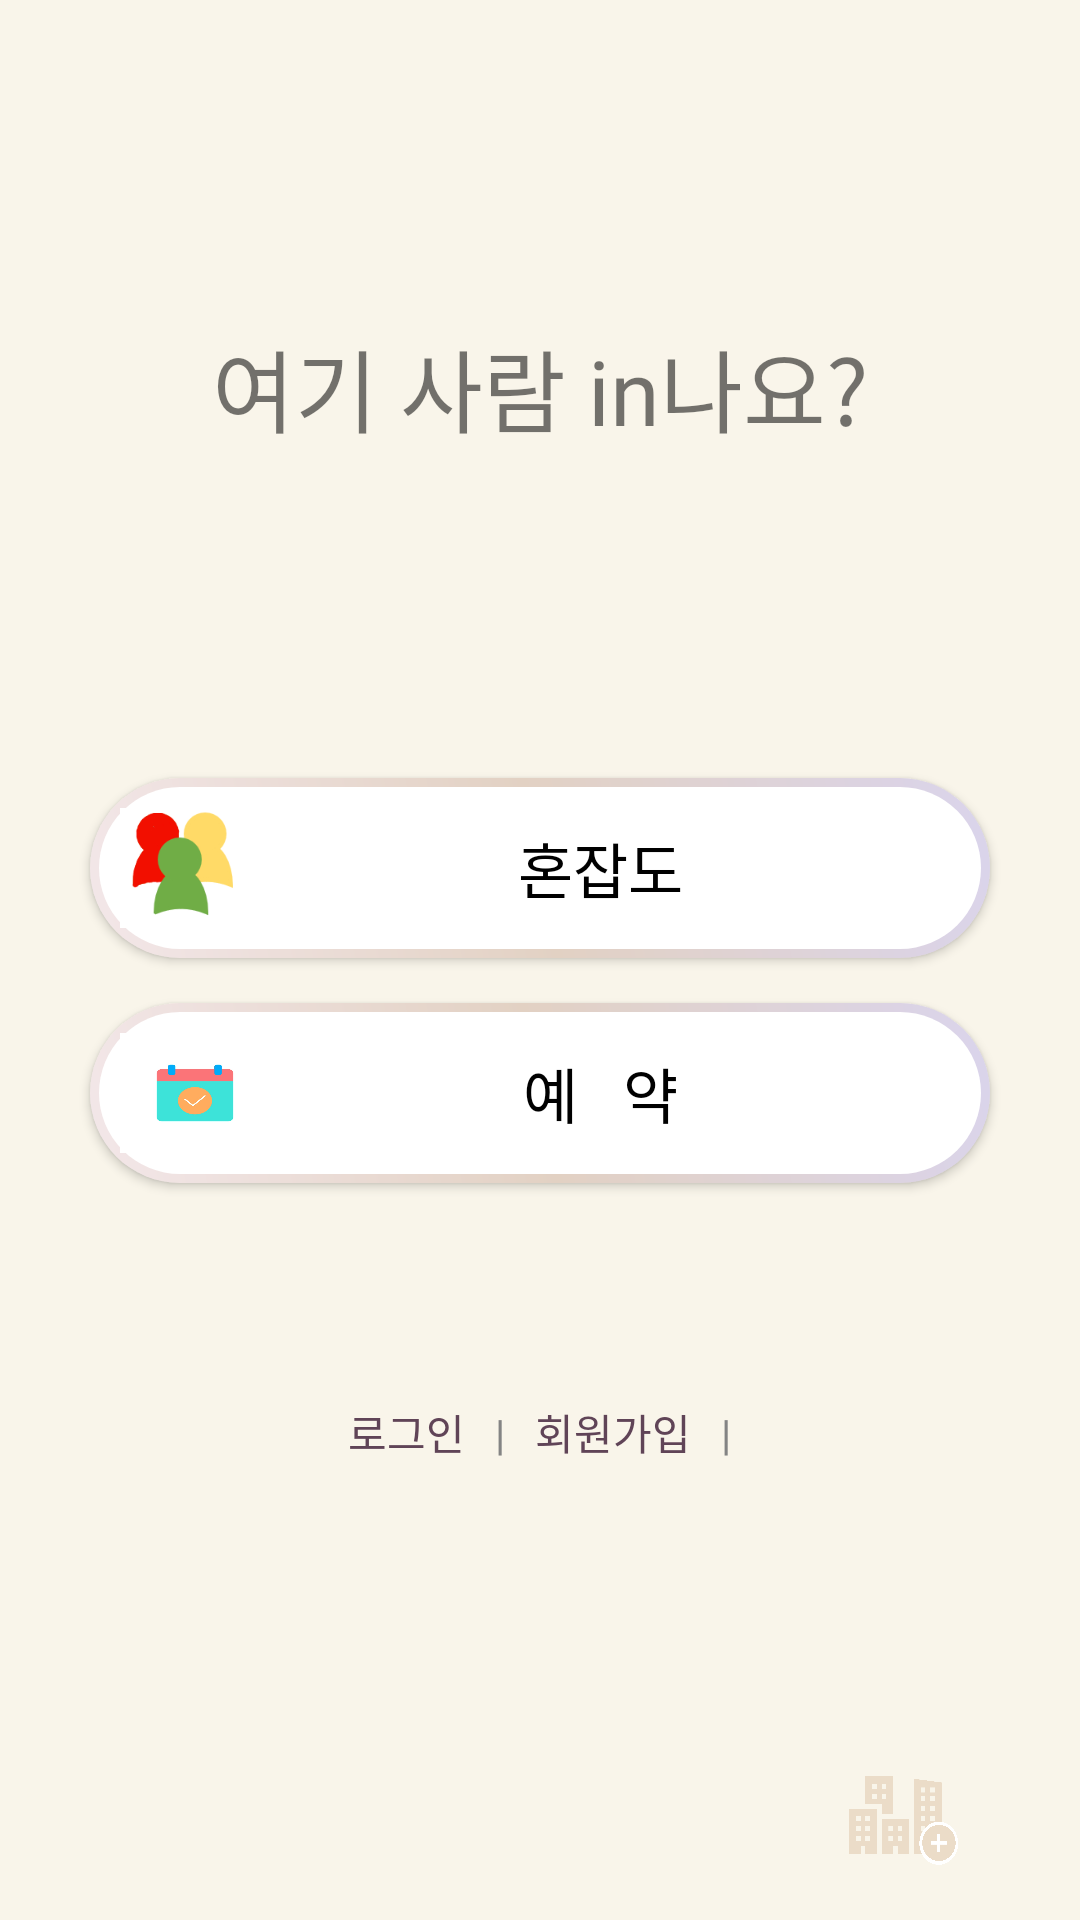

Screen size 1080*1920. Icon name, then its box in pixels as (x1, y1, x2, y2):
enroll: (849, 1776, 956, 1861)
